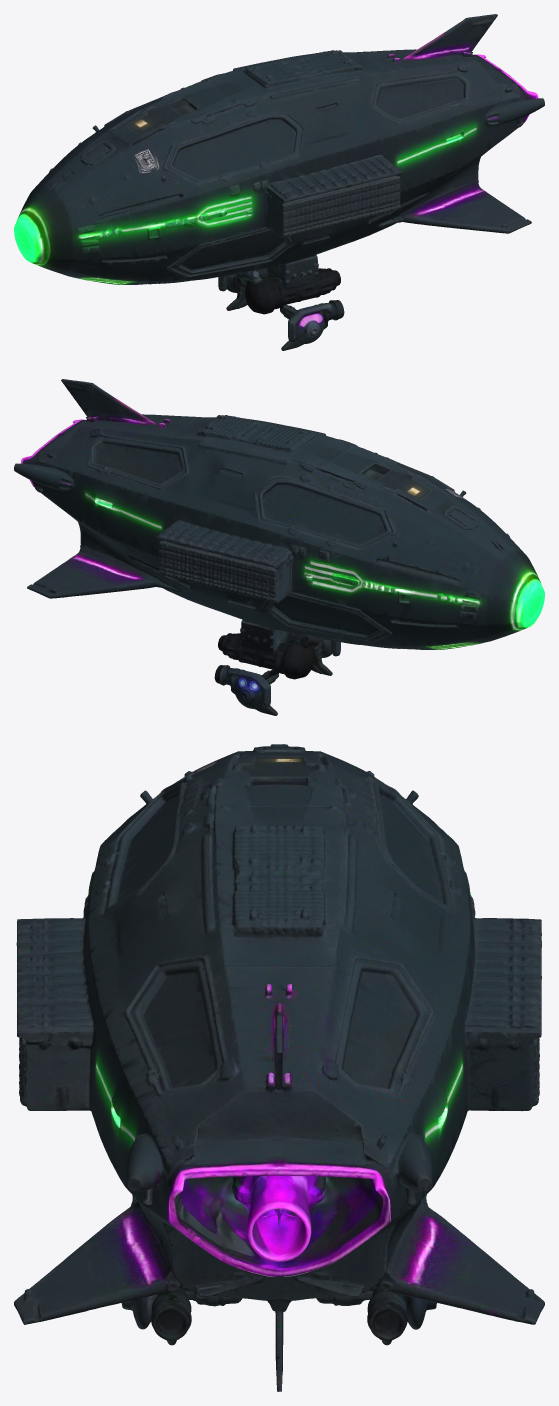
Rendered from b2_gaming_ship_rt.glb.
The picture shows the model from 3 angles, top to bottom: view 1: azimuth 30°, elevation 25°; view 2: azimuth 150°, elevation 25°; view 3: azimuth 270°, elevation 25°; orthographic projection. The views are drawn at different scales.
Bounding box in the file's own units: 1.9 × 0.9679 × 0.9095.
1 material, 1 textured.
